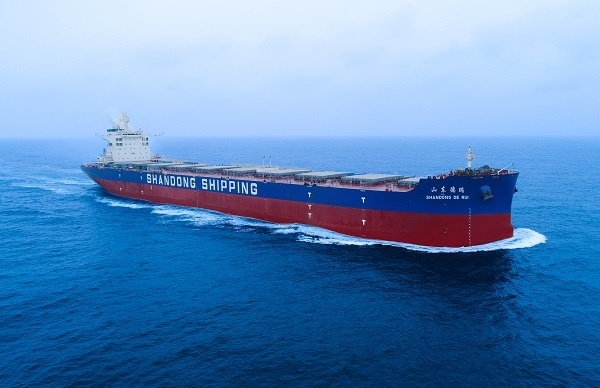Cargoship: (79, 109, 521, 252)
